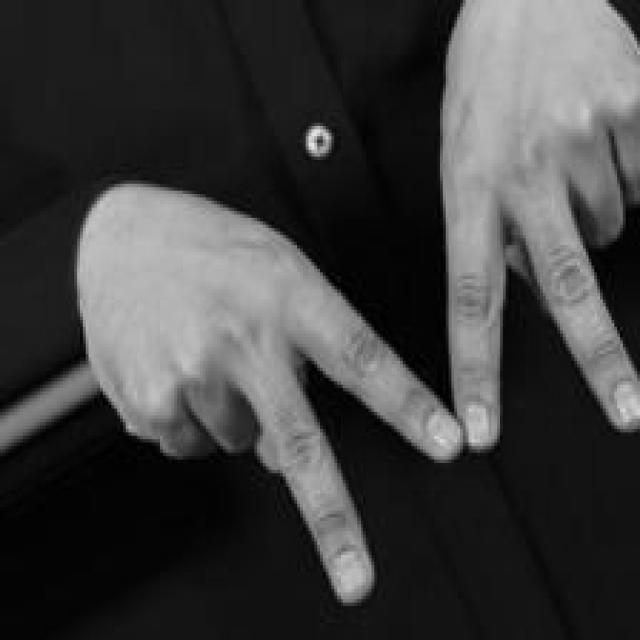M: (83, 0, 640, 606)
